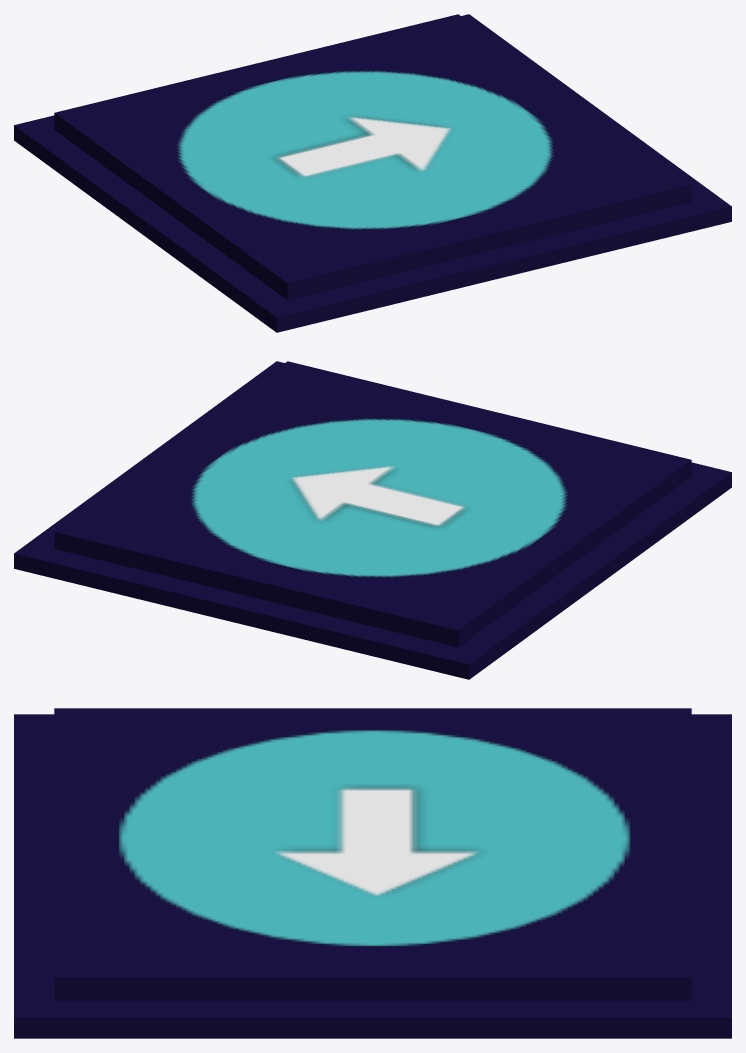
Rendered from StartTile.fbx.
3 renders of one model, top to bottom at view 1: azimuth 30°, elevation 25°; view 2: azimuth 150°, elevation 25°; view 3: azimuth 270°, elevation 25°, orthographic. The views are drawn at different scales.
Parts seen in each view (by area): view 1: StartTile; view 2: StartTile; view 3: StartTile.
Part boxes in pixels (bbox=[...]): StartTile: bbox=[14, 14, 731, 332]; StartTile: bbox=[14, 361, 731, 679]; StartTile: bbox=[14, 708, 731, 1038].
Bounding box in the file's own units: 2 × 0.1355 × 2.
